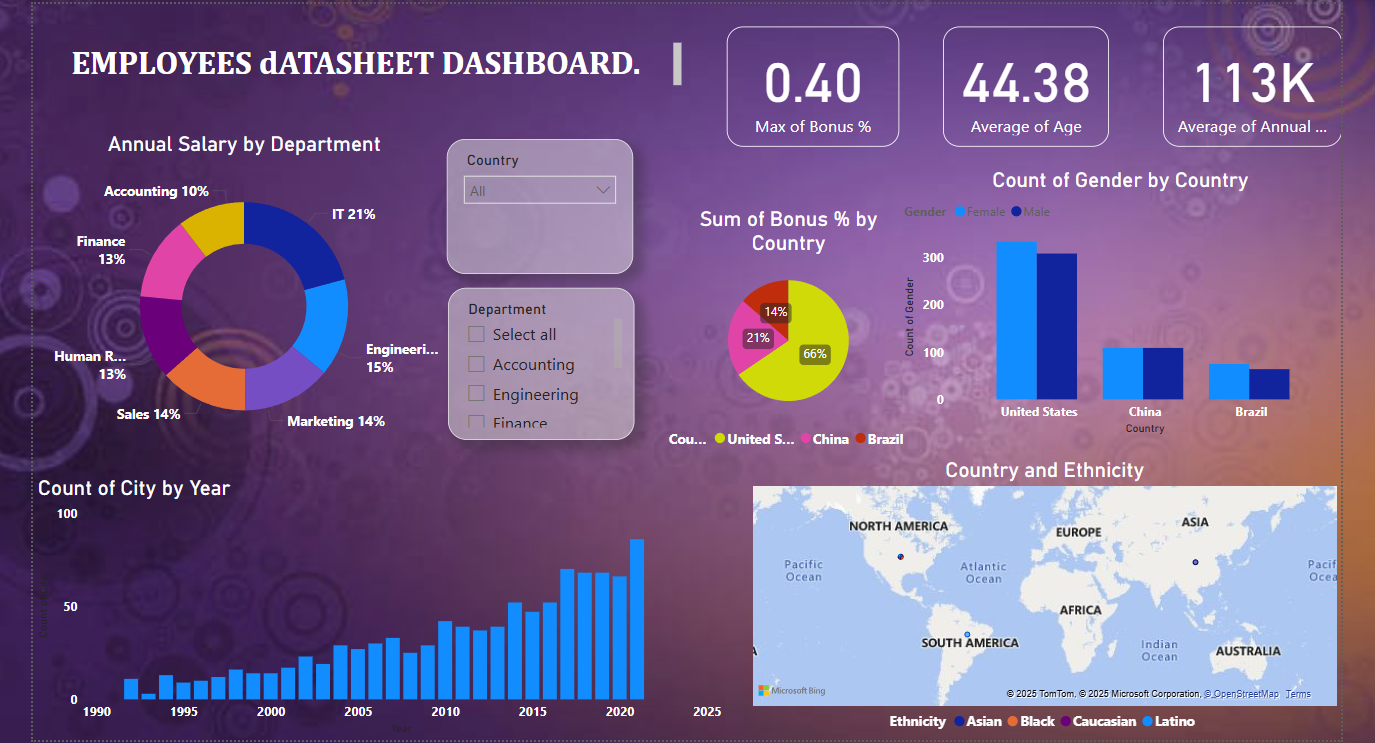

Layout of this report page (visuals, bound fields, positions):
{"tool":"powerbi","page":{"name":"Page 1","canvas":[1280,720],"ordinal":0},"visuals":[{"type":"textbox","box":[0,32.9,639.5,71.4],"z":0},{"type":"clusteredColumnChart","title":"Count of Gender by Country ","fields":{"Category":["Sheet1.Country"],"Series":["Sheet1.Gender"],"Y":["CountNonNull(Sheet1.Gender)"]},"box":[847.4,160.2,432.9,266.6],"z":1000},{"type":"pieChart","fields":{"Category":["Sheet1.Country"],"Y":["Sum(Sheet1.Bonus %)"]},"box":[616.3,198.1,245.8,245.8],"z":2000},{"type":"donutChart","title":" Annual Salary by Department","fields":{"Category":["Sheet1.Department"],"Y":["Sum(Sheet1.Annual Salary)"]},"box":[17.1,124.7,379.1,319.2],"z":3000},{"type":"map","fields":{"Category":["Sheet1.Country"],"Series":["Sheet1.Ethnicity"]},"box":[699.5,443.9,580.8,276.4],"z":4000},{"type":"clusteredColumnChart","fields":{"Category":["Sheet1.Hire Date.Variation.Date Hierarchy.Year"],"Y":["CountNonNull(Sheet1.City)"]},"box":[0,461,678.7,259.2],"z":5000},{"type":"card","fields":{"Values":["Avg(Sheet1.Annual Salary)"]},"box":[1105.4,22,174.9,117.4],"z":6000},{"type":"card","fields":{"Values":["Avg(Sheet1.Age)"]},"box":[890.2,22,162.6,117.4],"z":7000},{"type":"card","fields":{"Values":["Max(Sheet1.Bonus %)"]},"box":[678.7,22,168.8,117.4],"z":8000},{"type":"slicer","fields":{"Values":["Sheet1.Country"]},"box":[404.8,132.1,182.2,132.1],"z":9000},{"type":"slicer","fields":{"Values":["Sheet1.Department"]},"box":[406,277.6,182.2,149.2],"z":10000}]}

Visuals, with their boxes on the page's 1280x720 design canvas (x1, y1, x2, y2). These are canvas units, not pixel positions in the 1375x743 screenshot, which may show the page scaled, cropped or inside an application window:
textbox: bbox(0, 33, 640, 104)
"Count of Gender by Country " clusteredColumnChart: bbox(847, 160, 1280, 427)
pieChart - Sheet1.Country x Sum(Sheet1.Bonus %): bbox(616, 198, 862, 444)
" Annual Salary by Department" donutChart: bbox(17, 125, 396, 444)
map - Sheet1.Country x Sheet1.Ethnicity: bbox(700, 444, 1280, 720)
clusteredColumnChart - Sheet1.Hire Date.Variation.Date Hierarchy.Year x CountNonNull(Sheet1.City): bbox(0, 461, 679, 720)
card - Avg(Sheet1.Annual Salary): bbox(1105, 22, 1280, 139)
card - Avg(Sheet1.Age): bbox(890, 22, 1053, 139)
card - Max(Sheet1.Bonus %): bbox(679, 22, 848, 139)
slicer - Sheet1.Country: bbox(405, 132, 587, 264)
slicer - Sheet1.Department: bbox(406, 278, 588, 427)
